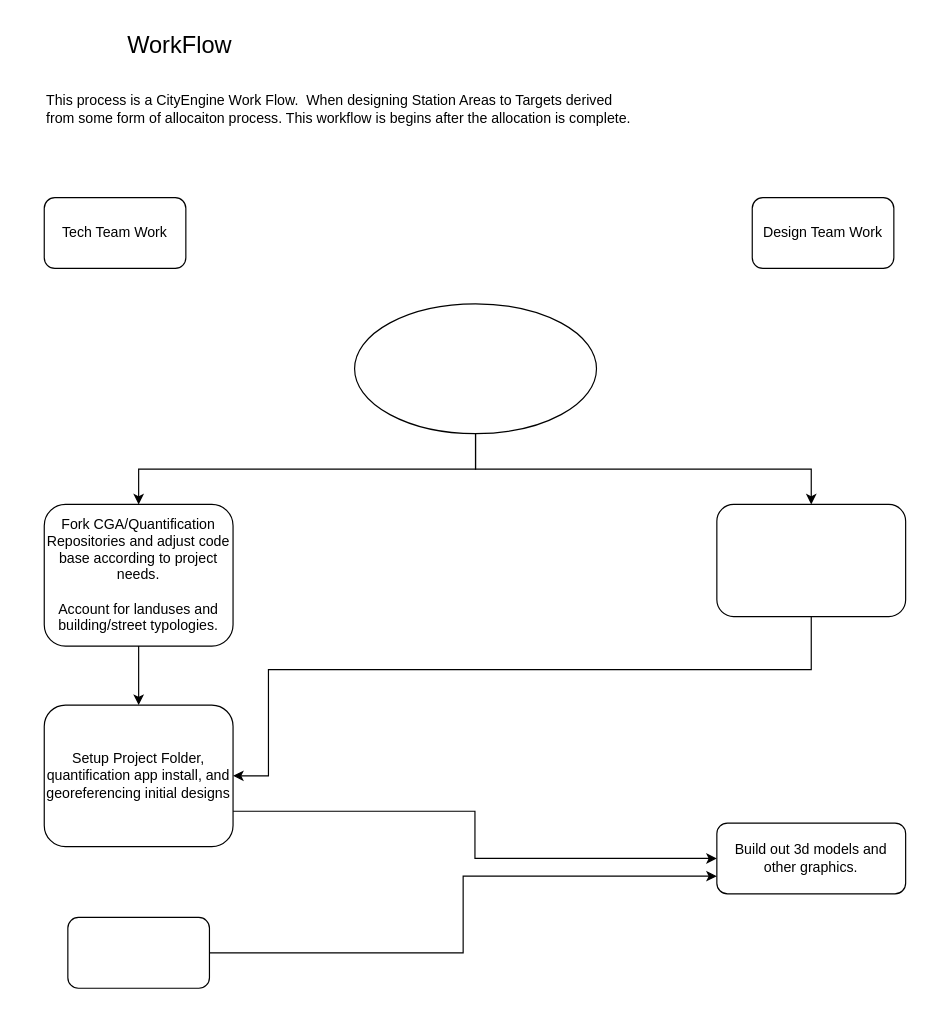
Image size: 926x1009. Some labels were removed from this diagram. Here are the shapes that lost their labels. From the top down, the centre of each, then its label:
At pixel 474 368: "Initial Meeting Discuss modeling and quantification needs for the project".
At pixel 811 560: "Develop Initial design framework Network improvements, block typologies etc".
At pixel 138 952: "Provide ongoing code/technical support".
